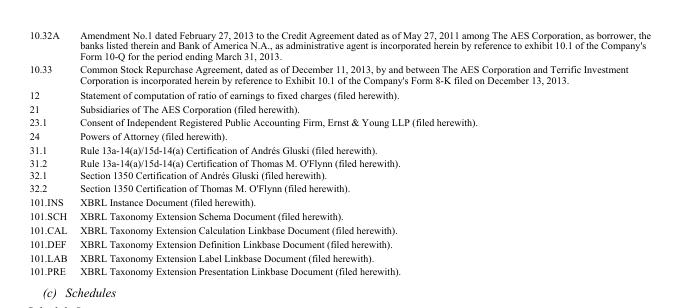table: (28, 29, 650, 276)
table column: (72, 29, 650, 276), (28, 29, 72, 276)
table row: (28, 29, 650, 62), (28, 62, 650, 86), (28, 86, 650, 101), (28, 101, 650, 115), (28, 115, 650, 129), (28, 142, 650, 156), (28, 194, 650, 208), (28, 208, 650, 222), (28, 222, 650, 236), (28, 236, 650, 250), (28, 250, 650, 264), (28, 129, 650, 142), (28, 168, 650, 181), (28, 181, 650, 194), (28, 156, 650, 168), (28, 264, 650, 276)
